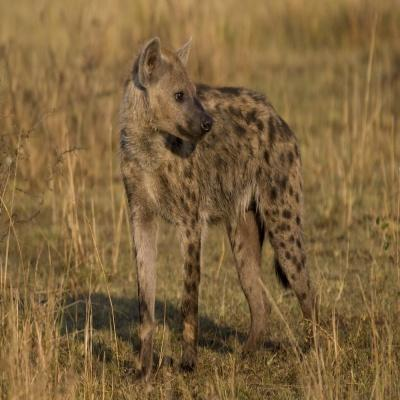hyenas: (71, 17, 346, 362)
